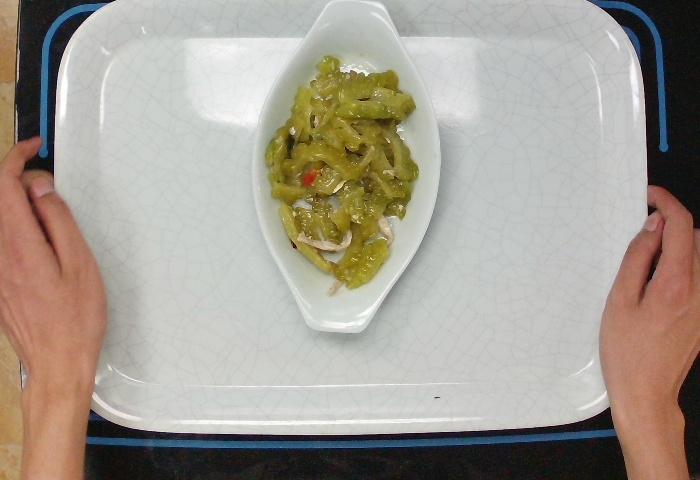JYsf-Yu_Pan: (245, 1, 449, 339)
